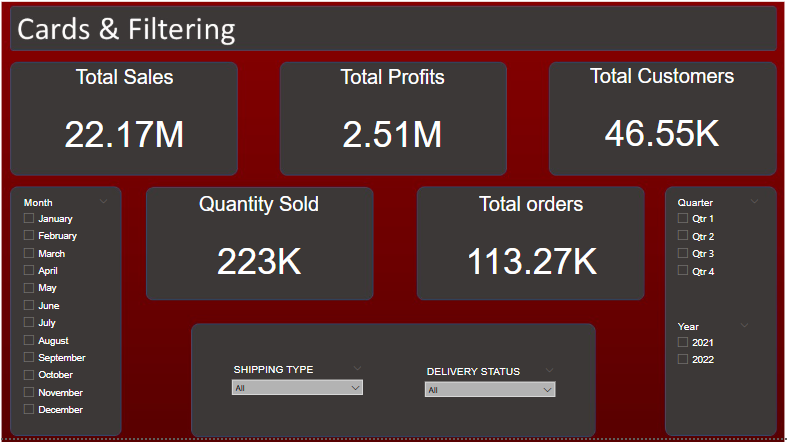

Layout of this report page (visuals, bound fields, positions):
{"tool":"powerbi","page":{"name":"Cards & Filtering","canvas":[1550,780],"ordinal":1},"visuals":[{"type":"slicer","fields":{"Values":["Original table.order_date.Variation.Date Hierarchy.Year"]},"box":[1265,578.3,143.3,138.3],"z":1000},{"type":"slicer","fields":{"Values":["Original table.order_date.Variation.Date Hierarchy.Month"]},"box":[175,371.7,165,408.3],"z":2000},{"type":"slicer","fields":{"Values":["Original table.shipping_type"]},"box":[525,650,238.3,66.7],"z":3000},{"type":"slicer","fields":{"Values":["Original table.delivery_status"]},"box":[846.7,653.3,236.7,63.3],"z":4000},{"type":"card","title":"Total Sales","fields":{"Values":["Sum(Original table.sales_per_order)"]},"box":[163.3,160,385,180],"z":5000},{"type":"card","title":"Total Profits","fields":{"Values":["Sum(Original table.profit_per_order)"]},"box":[616.7,160,371.7,180],"z":6000},{"type":"card","title":"Total Customers","fields":{"Values":["Count(Original table.customer_name)"]},"box":[1065,158.3,373.3,181.7],"z":7000},{"type":"card","title":"Total orders","fields":{"Values":["CountNonNull(Original table.order_id)"]},"box":[846.7,371.7,373.3,180],"z":8000},{"type":"card","title":"Quantity Sold","fields":{"Values":["Sum(Original table.order_quantity)"]},"box":[396.7,371.7,366.7,180],"z":9000},{"type":"slicer","fields":{"Values":["Original table.order_date.Variation.Date Hierarchy.Quarter"]},"box":[1265,371.7,160,408.3],"z":9001}]}

Visuals, with their boxes on the page's 1550x780 design canvas (x1, y1, x2, y2). These are canvas units, not pixel positions in the 788x442 screenshot, which may show the page scaled, cropped or inside an application window:
slicer - Original table.order_date.Variation.Date Hierarchy.Year: <region>1265, 578, 1408, 717</region>
slicer - Original table.order_date.Variation.Date Hierarchy.Month: <region>175, 372, 340, 780</region>
slicer - Original table.shipping_type: <region>525, 650, 763, 717</region>
slicer - Original table.delivery_status: <region>847, 653, 1083, 717</region>
"Total Sales" card: <region>163, 160, 548, 340</region>
"Total Profits" card: <region>617, 160, 988, 340</region>
"Total Customers" card: <region>1065, 158, 1438, 340</region>
"Total orders" card: <region>847, 372, 1220, 552</region>
"Quantity Sold" card: <region>397, 372, 763, 552</region>
slicer - Original table.order_date.Variation.Date Hierarchy.Quarter: <region>1265, 372, 1425, 780</region>
